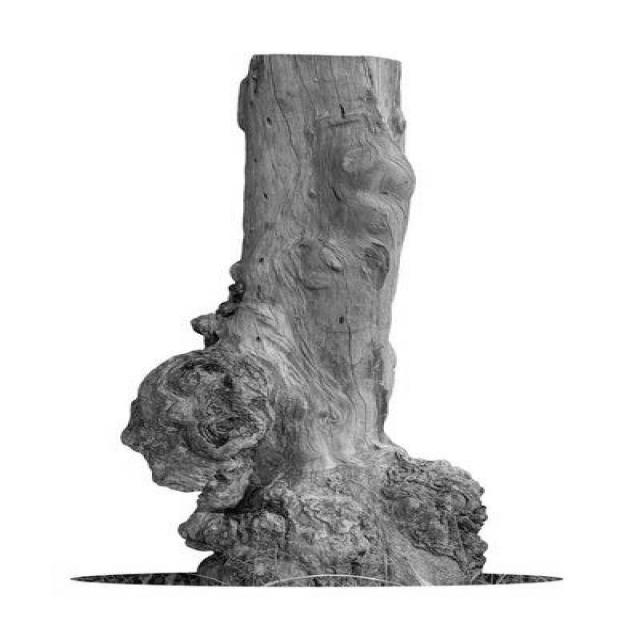Tree: (123, 55, 485, 586)
